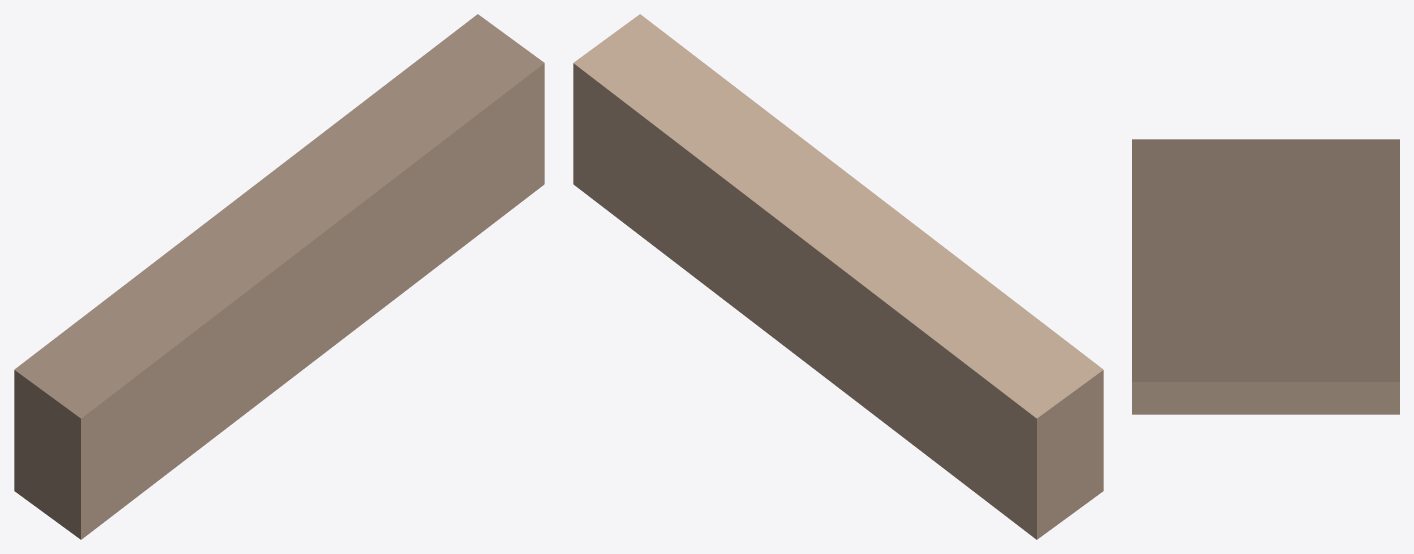
Rendered from Structure_Ceiling_Beam_Angled.fbx.
3 views of the same model, side by side, from view 1: azimuth 30°, elevation 25°; view 2: azimuth 150°, elevation 25°; view 3: azimuth 270°, elevation 25° (orthographic). The views are drawn at different scales.
Parts seen in each view (by area): view 1: object1.067; view 2: object1.067; view 3: object1.067.
Part boxes in pixels (<box>): object1.067: <box>14,14,544,539</box>; object1.067: <box>573,14,1103,539</box>; object1.067: <box>1132,139,1399,414</box>.
Bounding box in the file's own units: 100 × 75 × 25.
